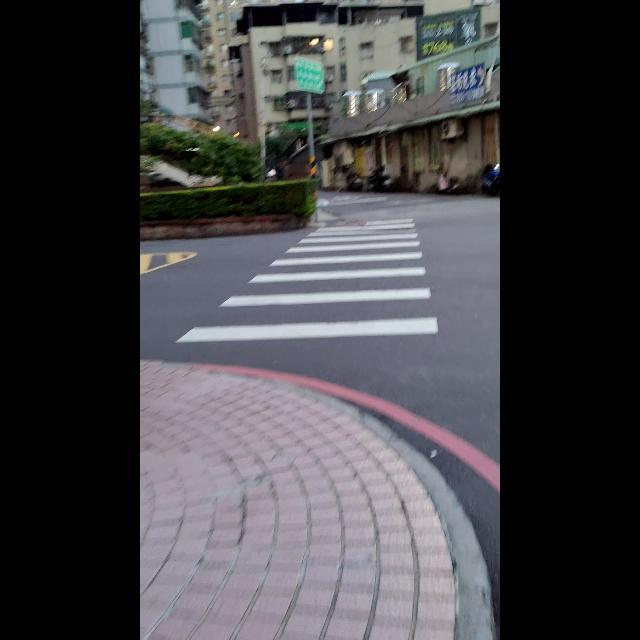sidewalk: (180, 215, 439, 347)
